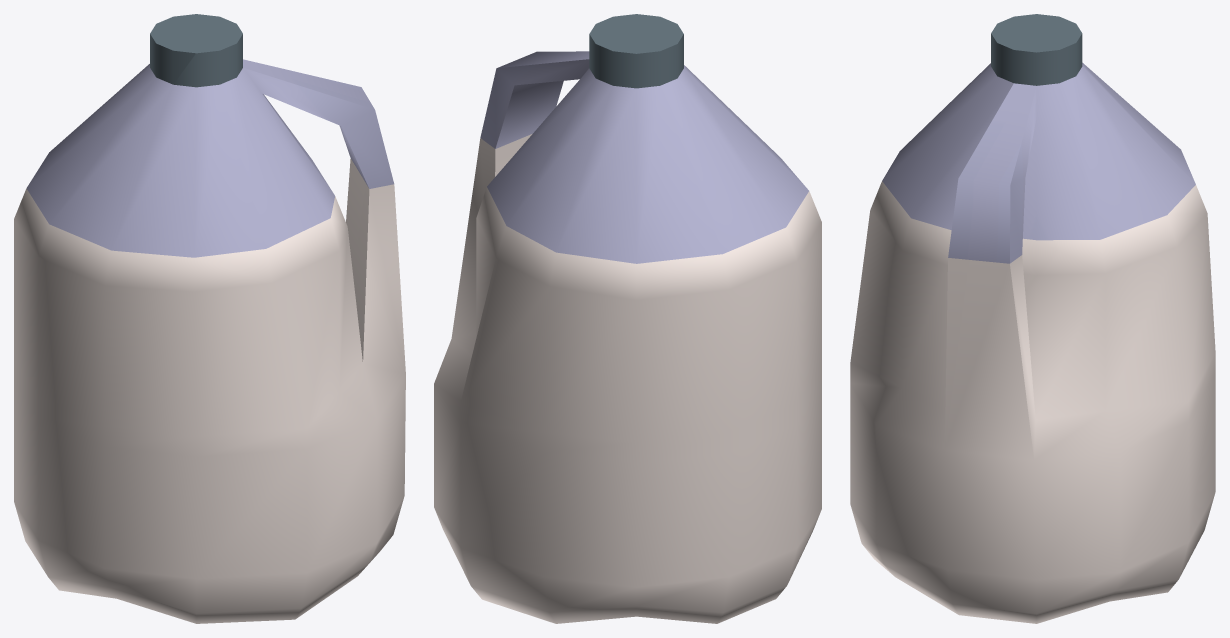
The model's file is _ilk_Gallon.fbx.
3 renders of one model, left to right at view 1: azimuth 30°, elevation 25°; view 2: azimuth 150°, elevation 25°; view 3: azimuth 270°, elevation 25°, orthographic. The views are drawn at different scales.
Parts seen in each view (by area): view 1: Milk_Gallon; view 2: Milk_Gallon; view 3: Milk_Gallon.
Part boxes in pixels (left/top/right/bottom): Milk_Gallon: left=14, top=14, right=405, bottom=623; Milk_Gallon: left=434, top=14, right=821, bottom=623; Milk_Gallon: left=850, top=14, right=1215, bottom=623.
Bounding box in the file's own units: 0.024 × 0.0358 × 0.0226.
